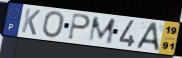4: (117, 19, 137, 48)
A: (135, 22, 161, 52)
K: (20, 7, 42, 37)
M: (87, 16, 117, 45)
O: (41, 10, 66, 39)
P: (67, 13, 92, 42)
